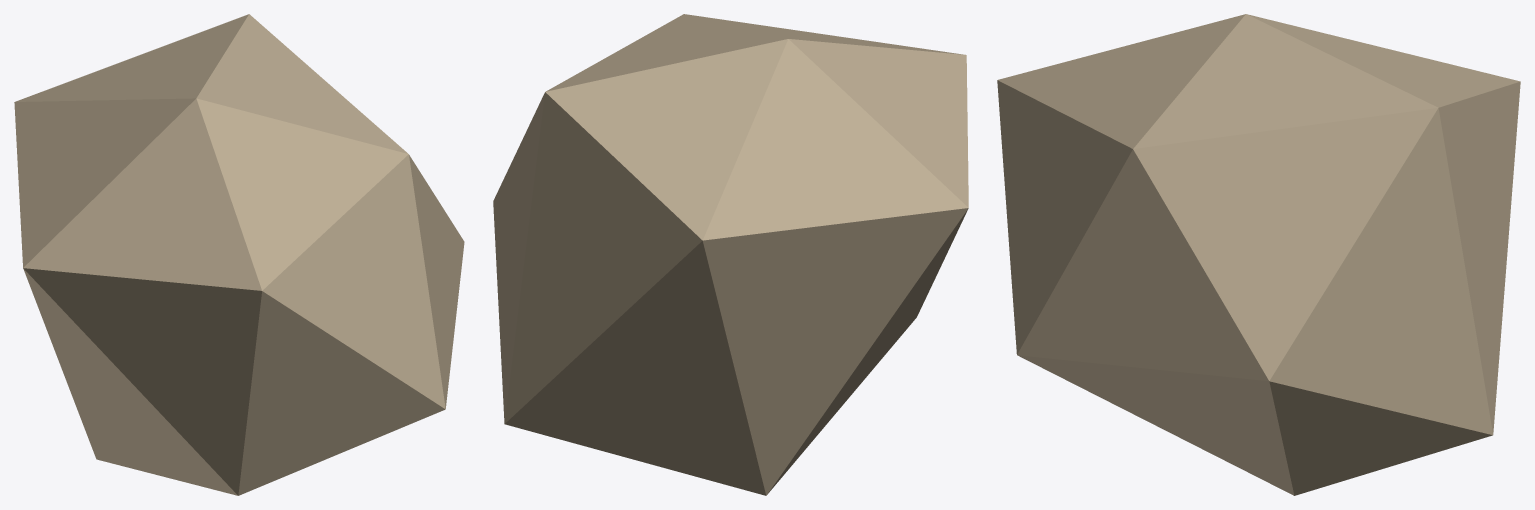
The model's file is rock5.fbx.
3 renders of one model, left to right at view 1: azimuth 30°, elevation 25°; view 2: azimuth 150°, elevation 25°; view 3: azimuth 270°, elevation 25°, orthographic. The views are drawn at different scales.
Parts seen in each view (by area): view 1: Icosphere.002; view 2: Icosphere.002; view 3: Icosphere.002.
Part boxes in pixels (x1,y1,x2,y2): Icosphere.002: [14, 14, 464, 495]; Icosphere.002: [493, 14, 968, 495]; Icosphere.002: [997, 14, 1520, 495].
Bounding box in the file's own units: 257 × 213 × 248.
